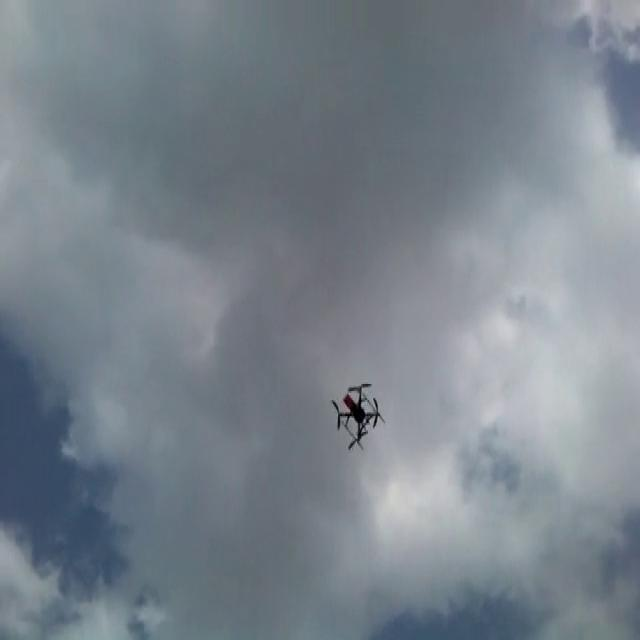drone: (329, 379, 382, 448)
